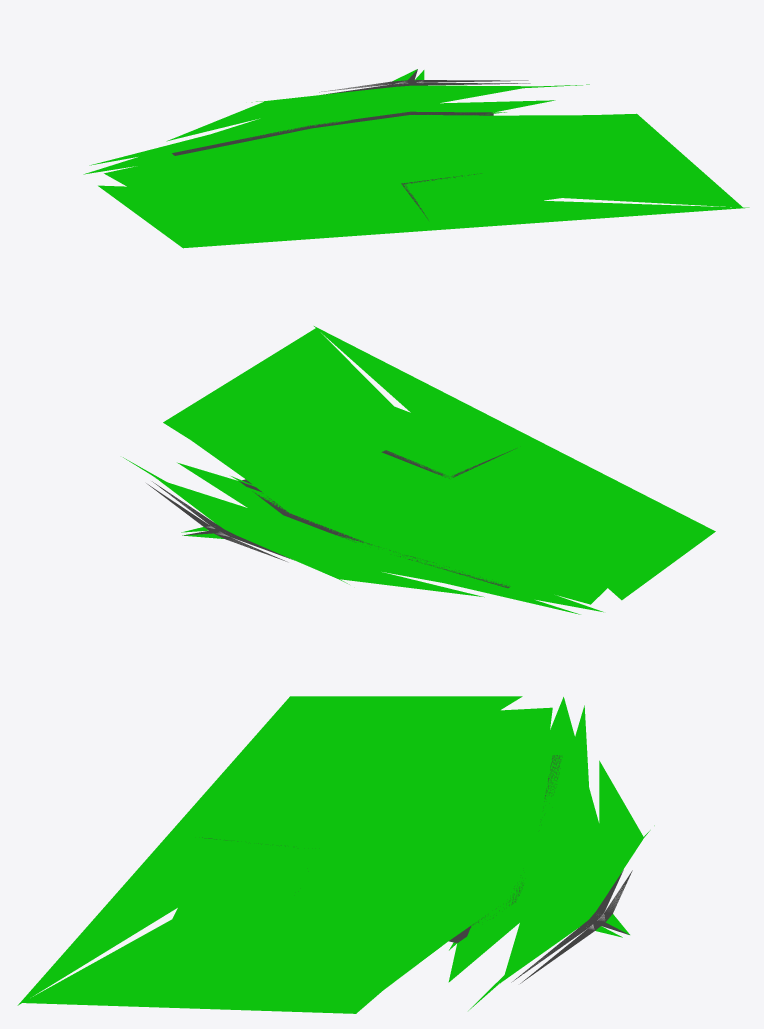
The picture shows the model from 3 angles, top to bottom: view 1: azimuth 30°, elevation 25°; view 2: azimuth 150°, elevation 25°; view 3: azimuth 270°, elevation 25°; orthographic projection. The views are drawn at different scales.
Size of the model in its own units: 300 by 0.001 by 293.
